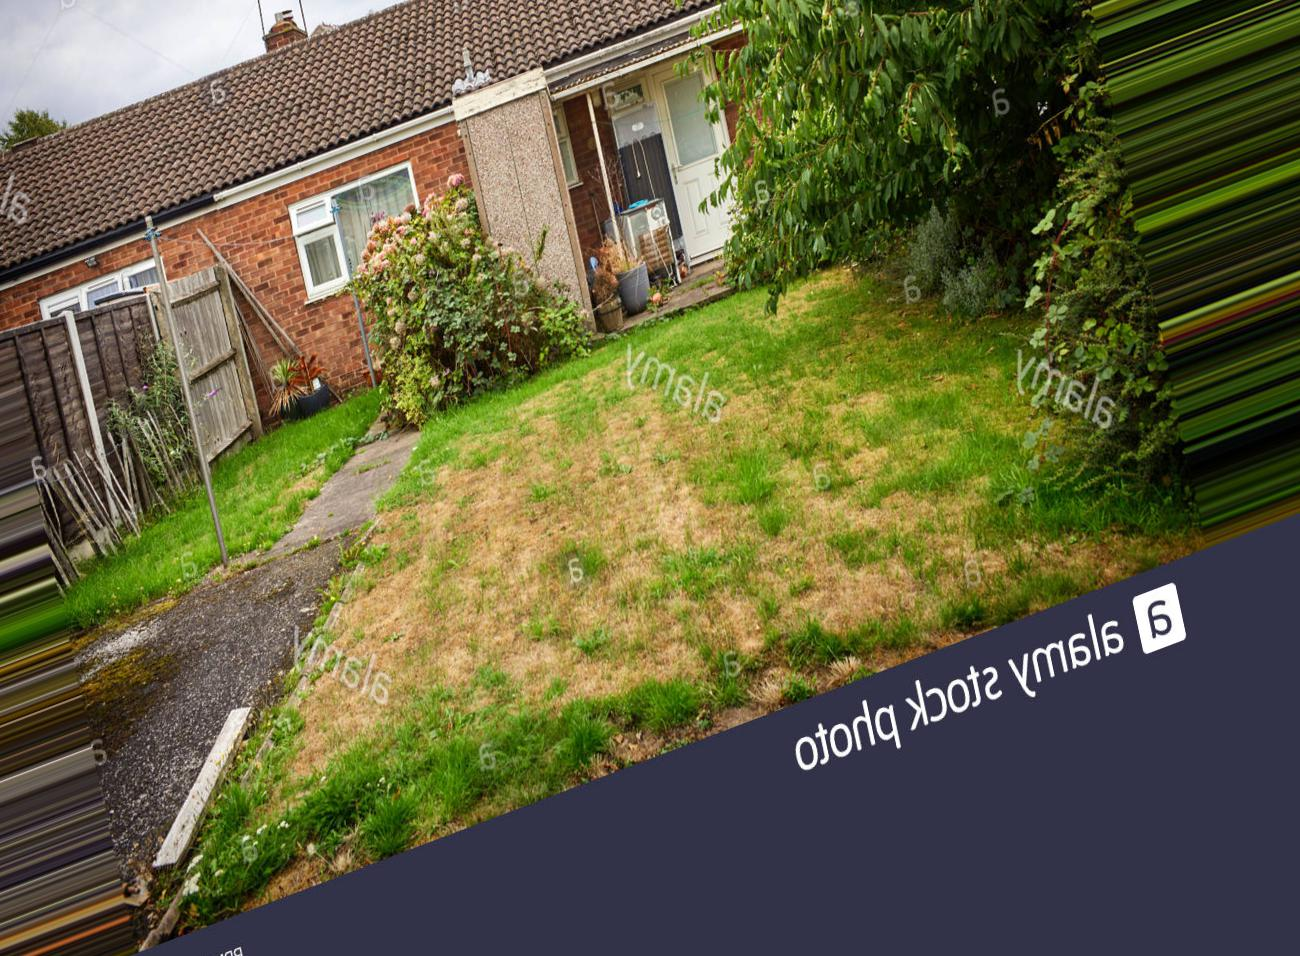patch: (543, 593, 724, 676), (485, 444, 598, 556), (376, 532, 452, 693), (794, 546, 897, 618), (641, 471, 718, 554)
